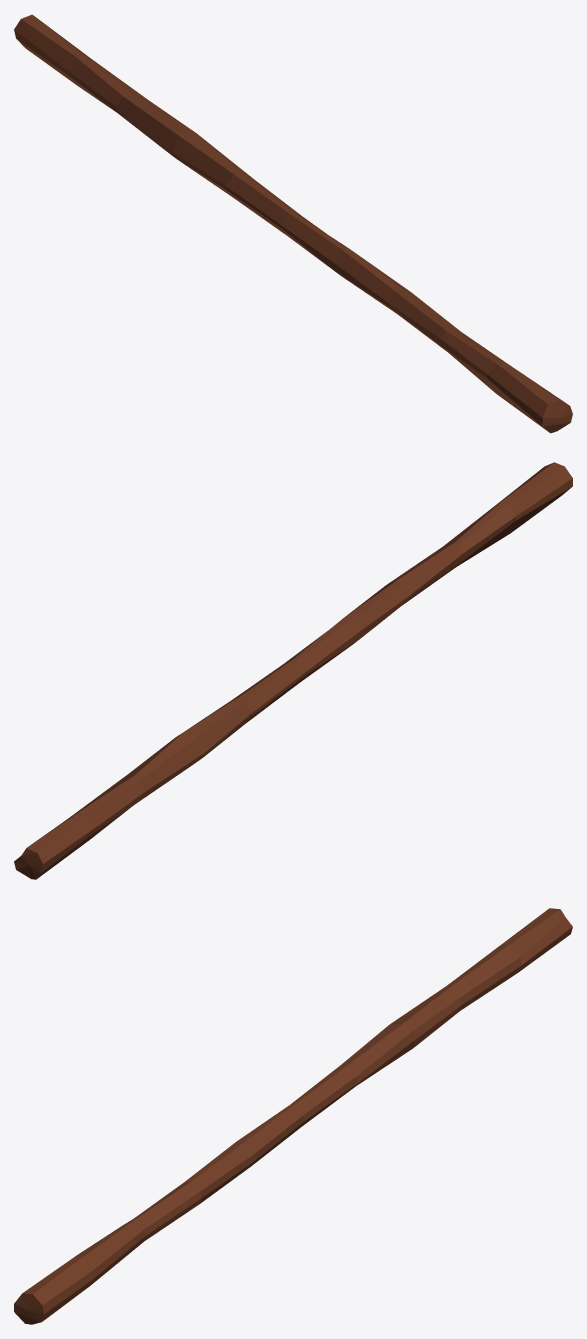
The model's file is Club.fbx.
The picture shows the model from 3 angles, top to bottom: view 1: azimuth 30°, elevation 25°; view 2: azimuth 150°, elevation 25°; view 3: azimuth 330°, elevation 25°; orthographic projection.
Parts seen in each view (by area): view 1: club; view 2: club; view 3: club.
Boxes of the visible parts, box(x1,y1,x2,y2) form: club: box(14, 14, 572, 433); club: box(14, 462, 572, 879); club: box(14, 908, 572, 1324).
Size of the model in its own units: 11.36 by 11.31 by 336.
